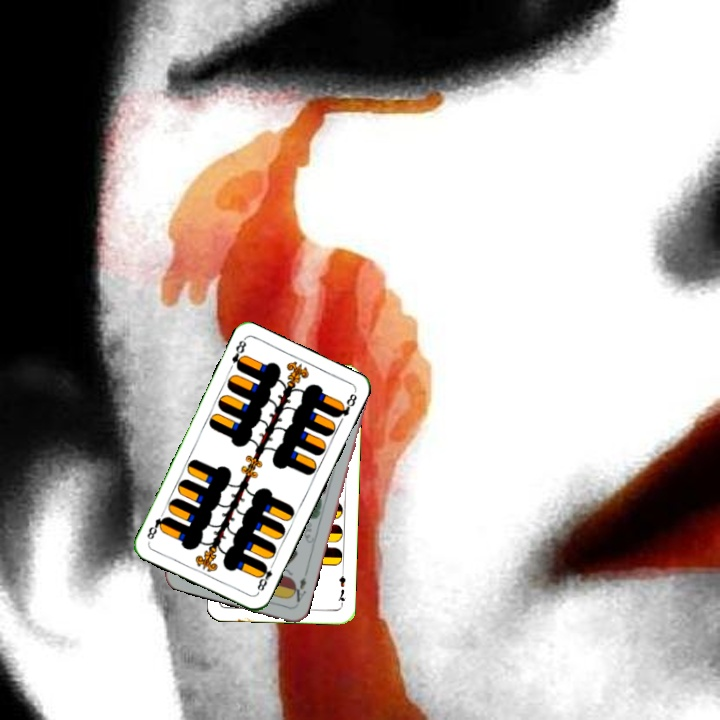E7: (334, 568, 349, 608)
E8: (253, 558, 277, 596), (227, 335, 249, 373)
EA: (287, 568, 310, 605)
